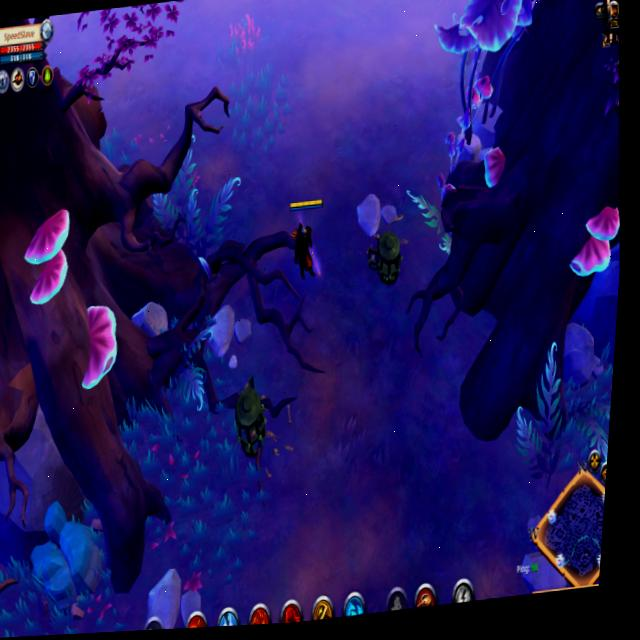red: (277, 188, 333, 289)
